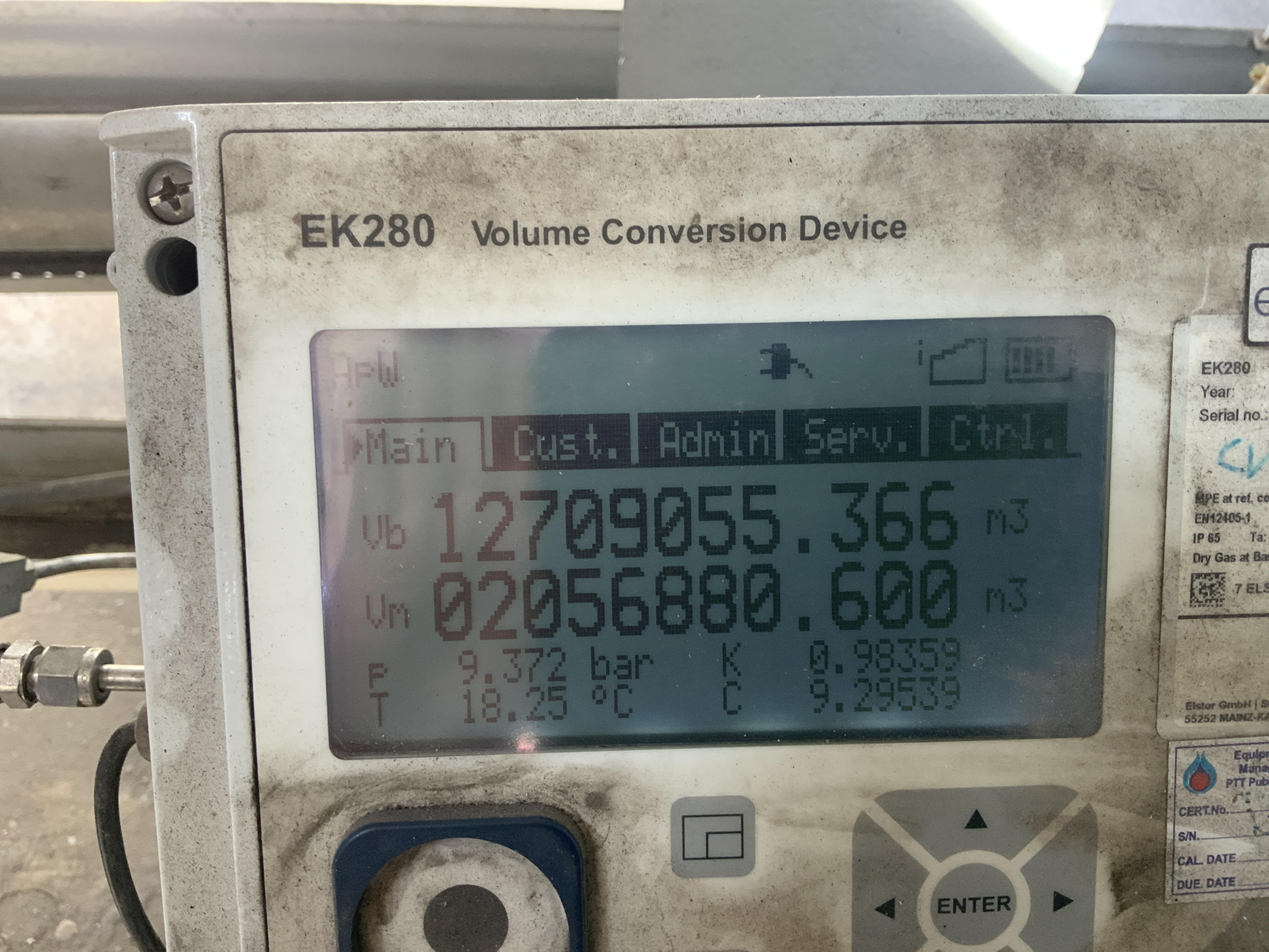digital_screen: (314, 320, 1118, 754)
